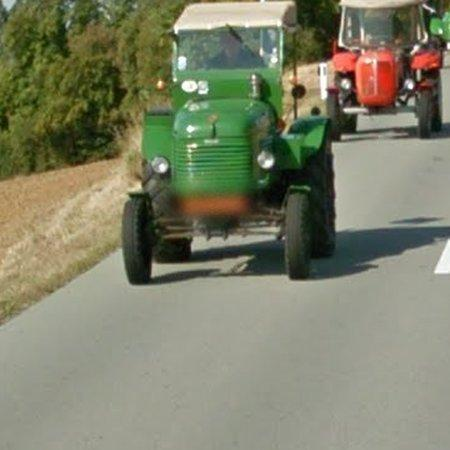tractors: (122, 2, 337, 284), (328, 0, 444, 140)
